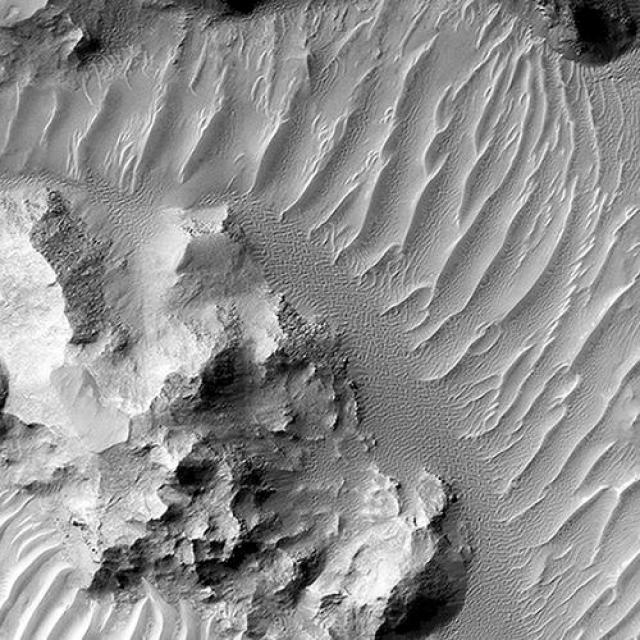crater: (126, 0, 372, 83)
